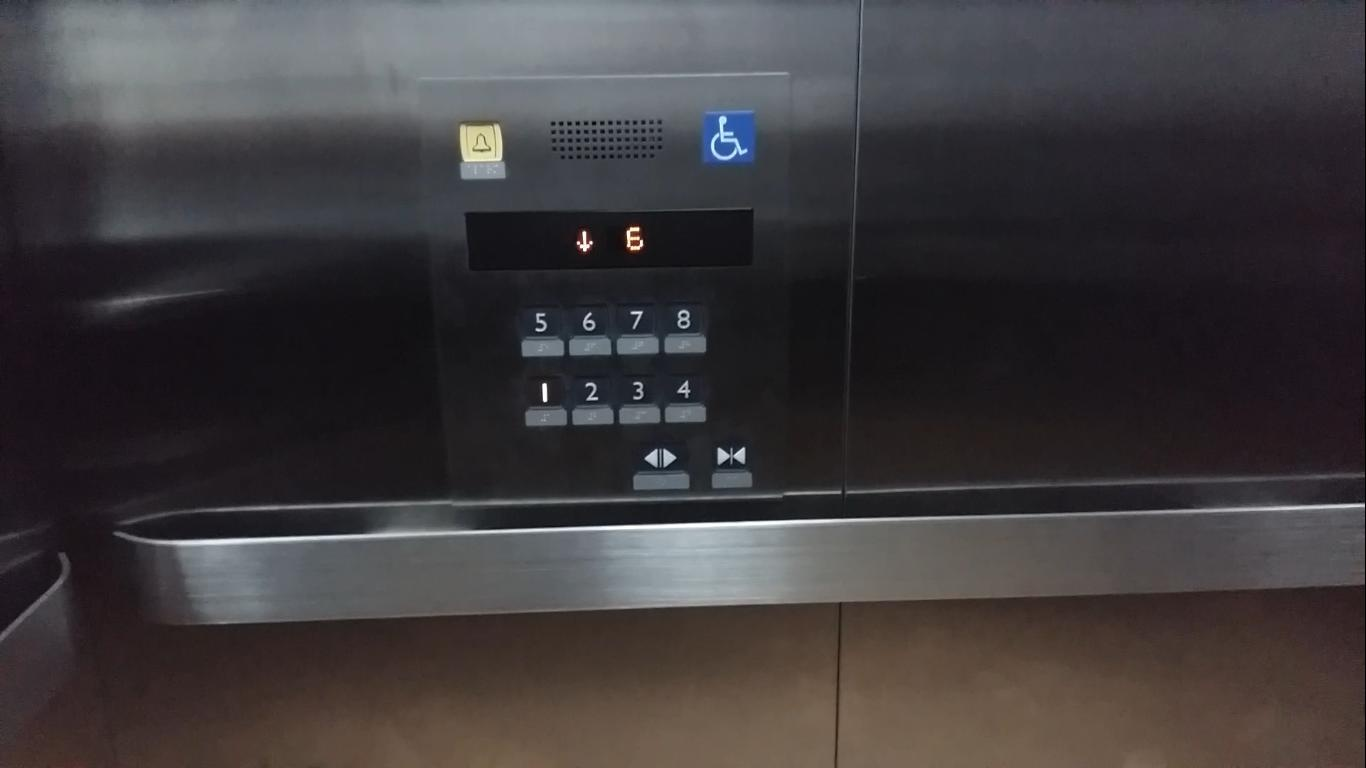1: (521, 372, 570, 408)
2: (568, 371, 614, 409)
3: (614, 371, 660, 408)
4: (658, 371, 710, 406)
5: (514, 301, 566, 340)
6: (565, 301, 616, 339)
7: (612, 299, 659, 339)
8: (660, 298, 707, 338)
CH: (700, 108, 758, 168)
alarm: (457, 118, 506, 163)
close: (708, 437, 754, 472)
led: (460, 203, 759, 274)
open: (631, 438, 694, 475)
